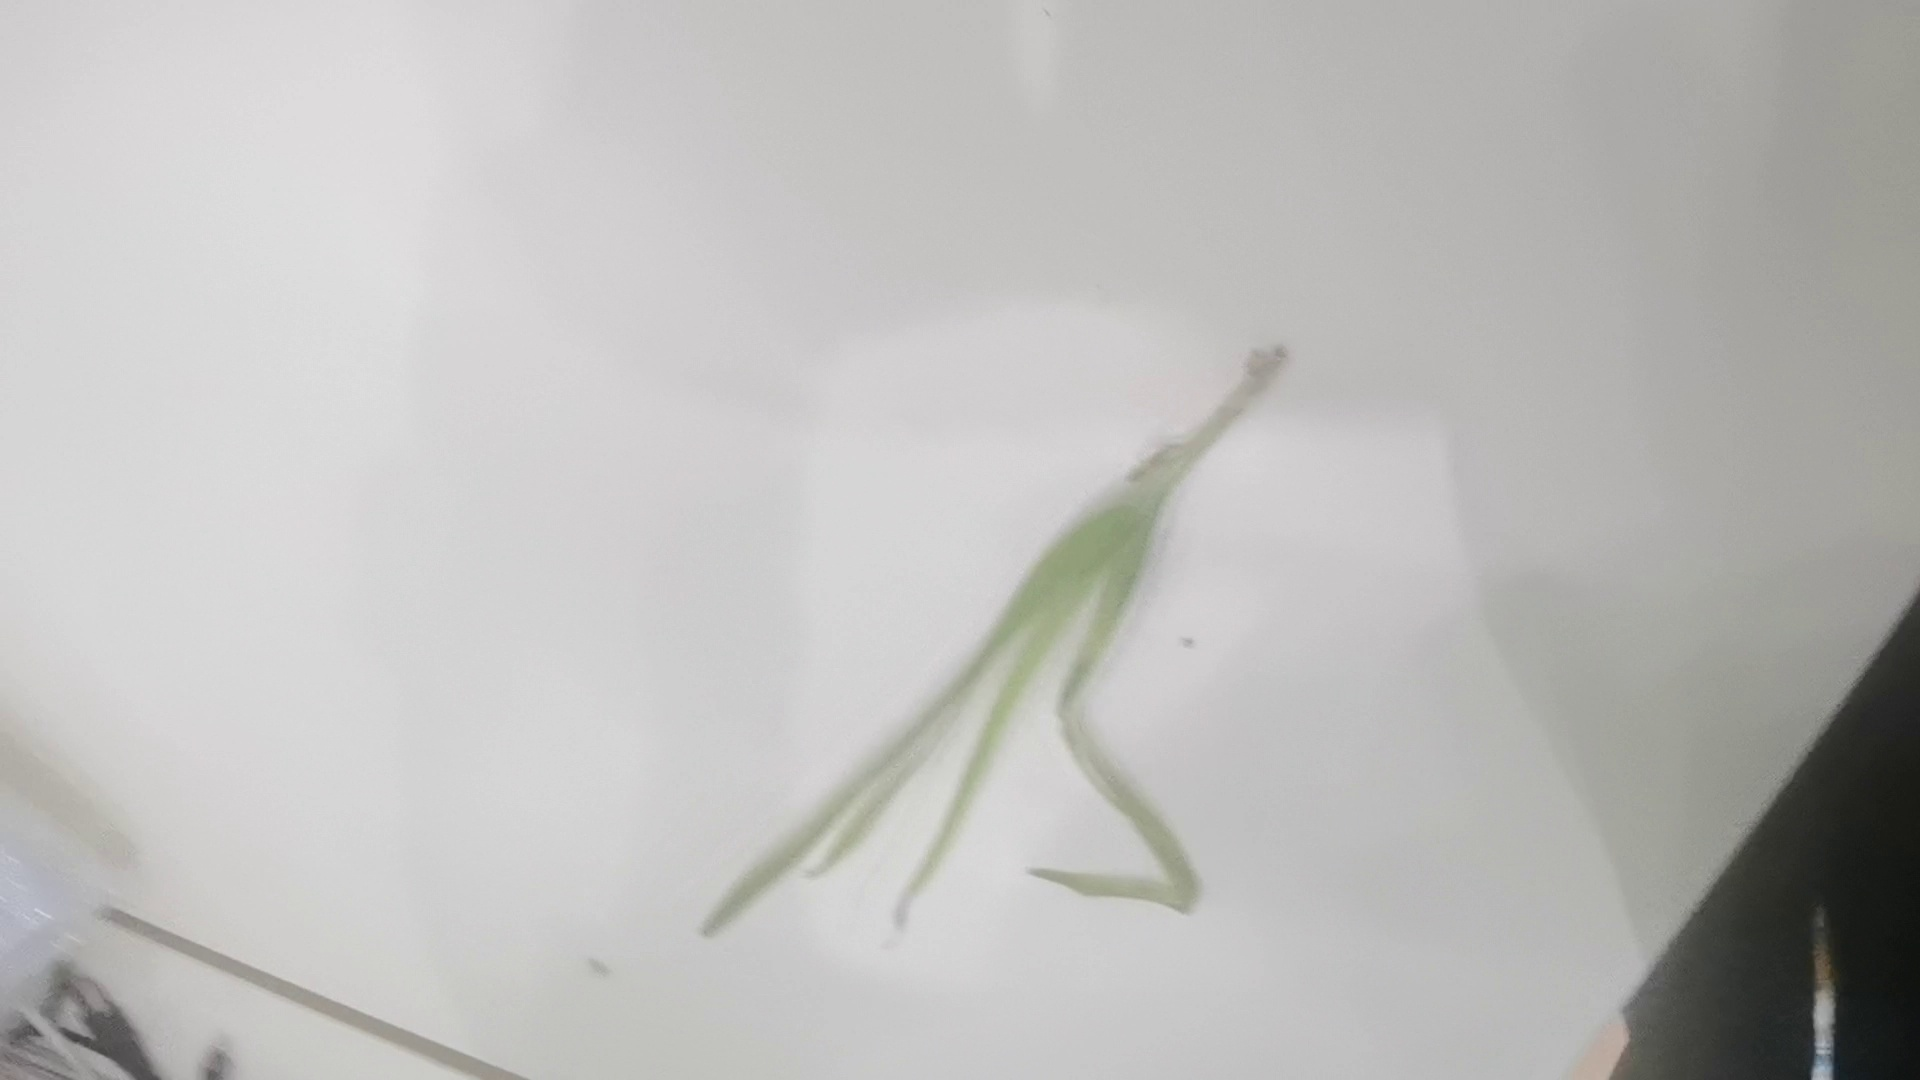chives: (661, 371, 1302, 916)
